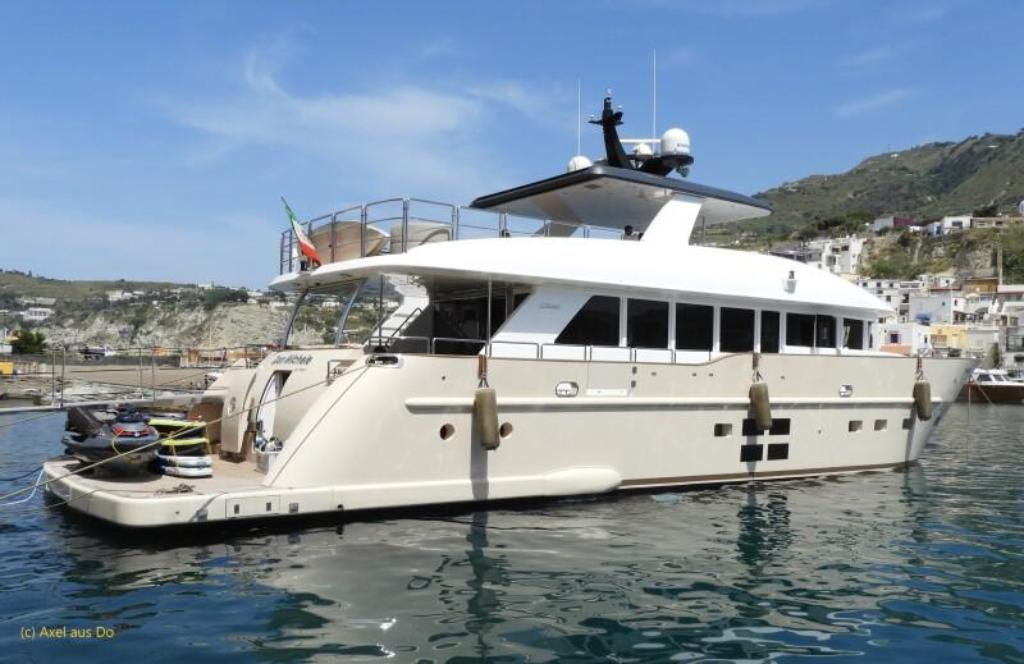PassengerShip: (38, 85, 990, 535)
